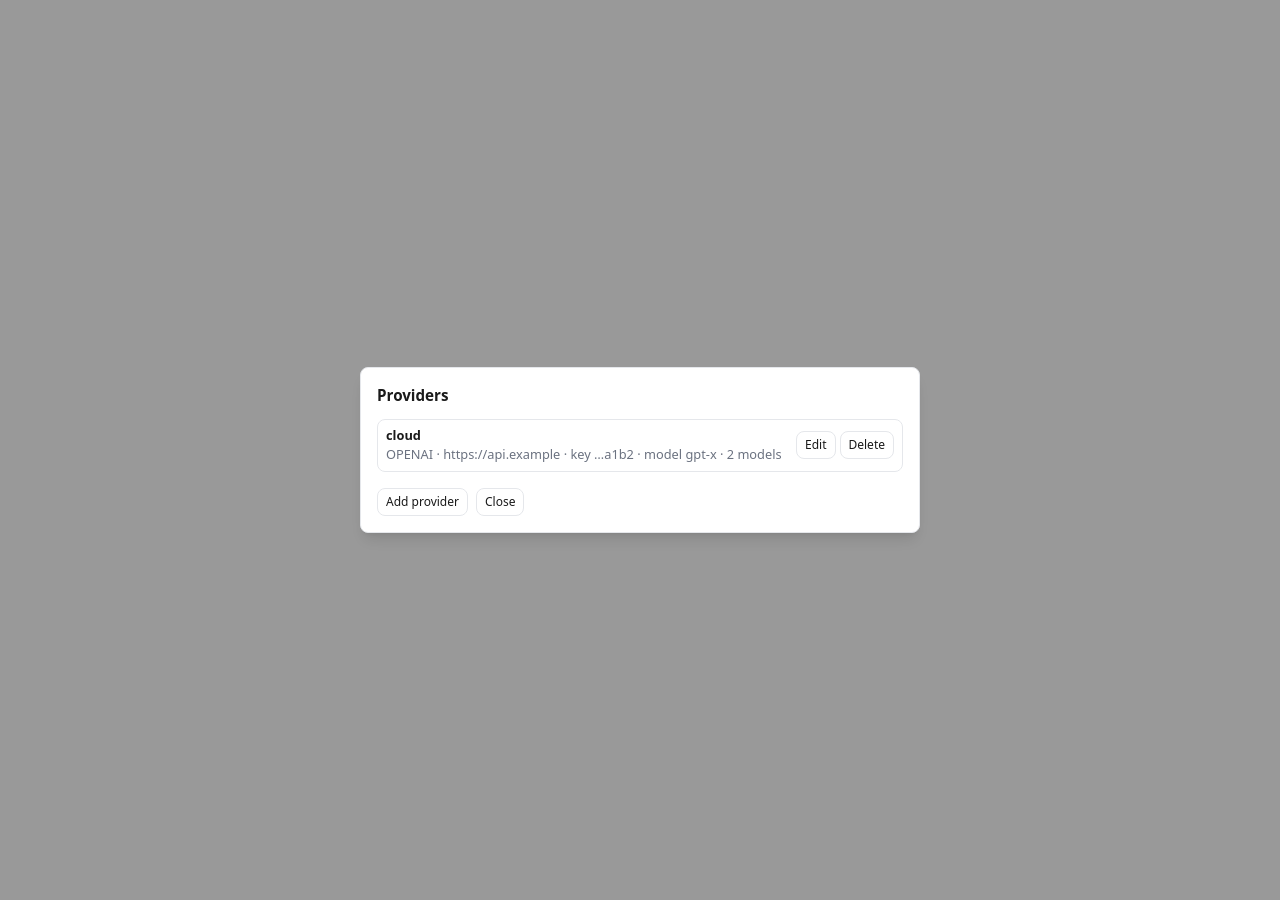
Test: ProvidersPanel › a re-fetch keeps the edited limits of existing models
Click the button "Edit".
click(816, 445)  # box [796,431,836,459]
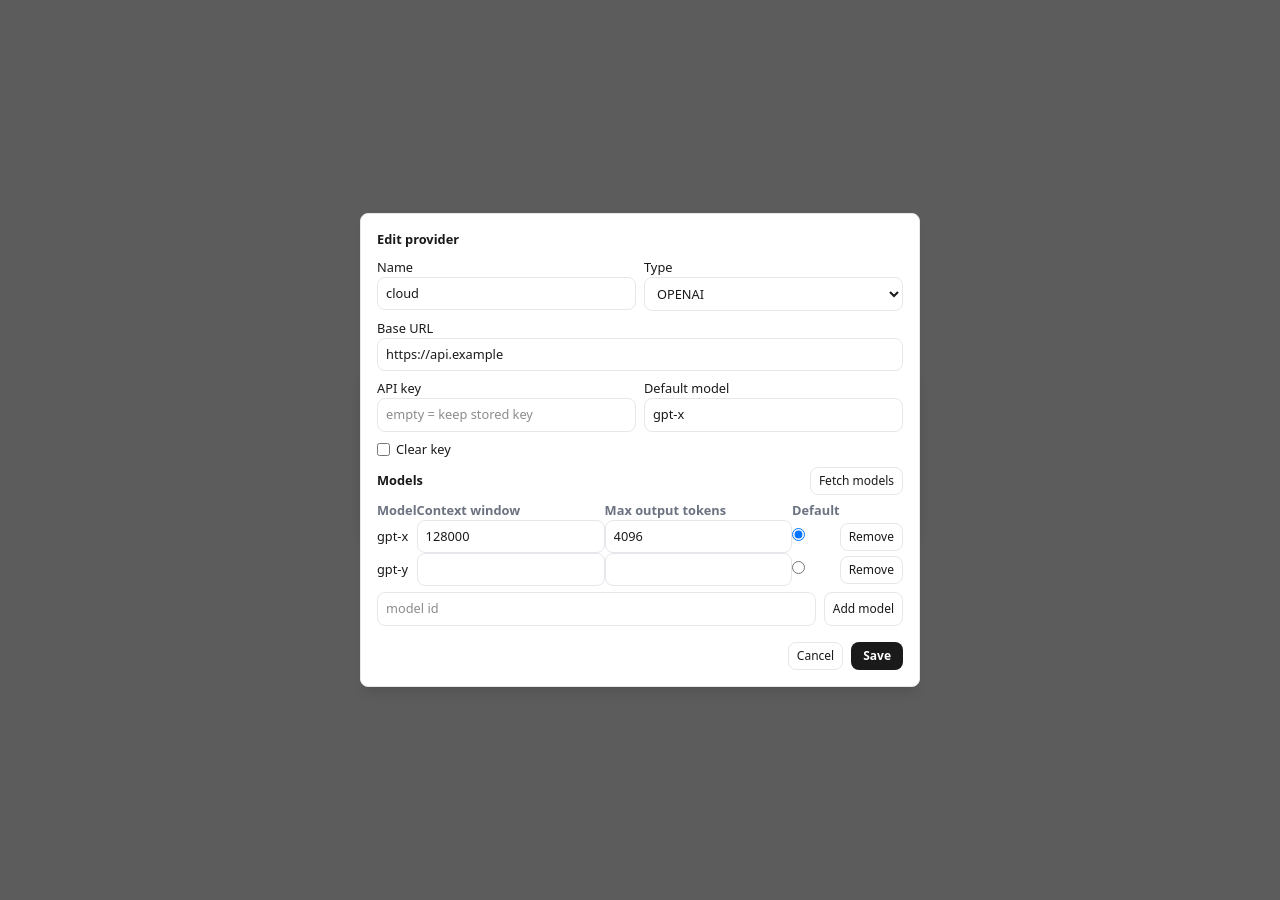
Type "999" into the number field named "Context window for gpt-y".
click(511, 570); type("999")  # box [417,553,605,586]
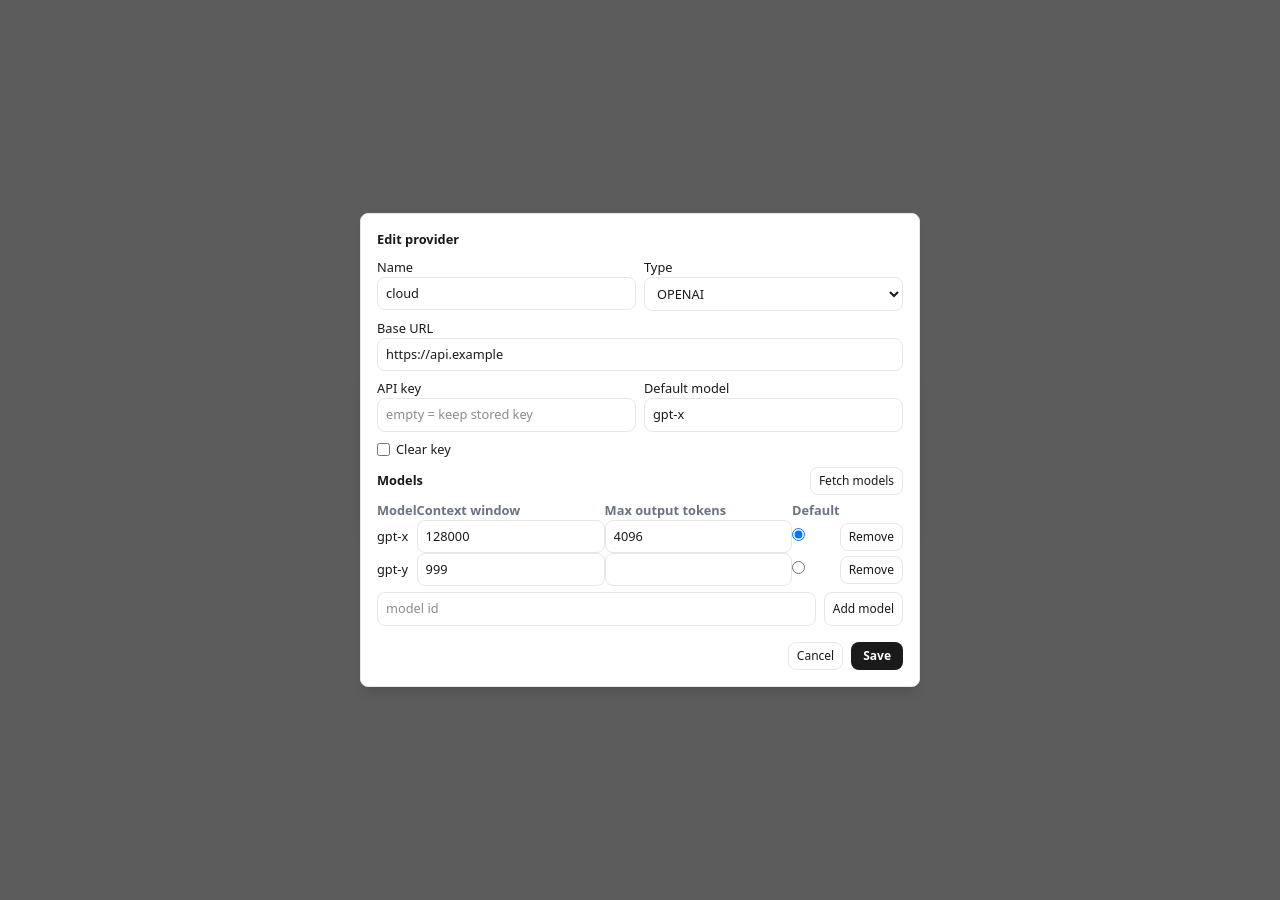
Click the button "Fetch models".
click(856, 481)  # box [810,467,903,495]
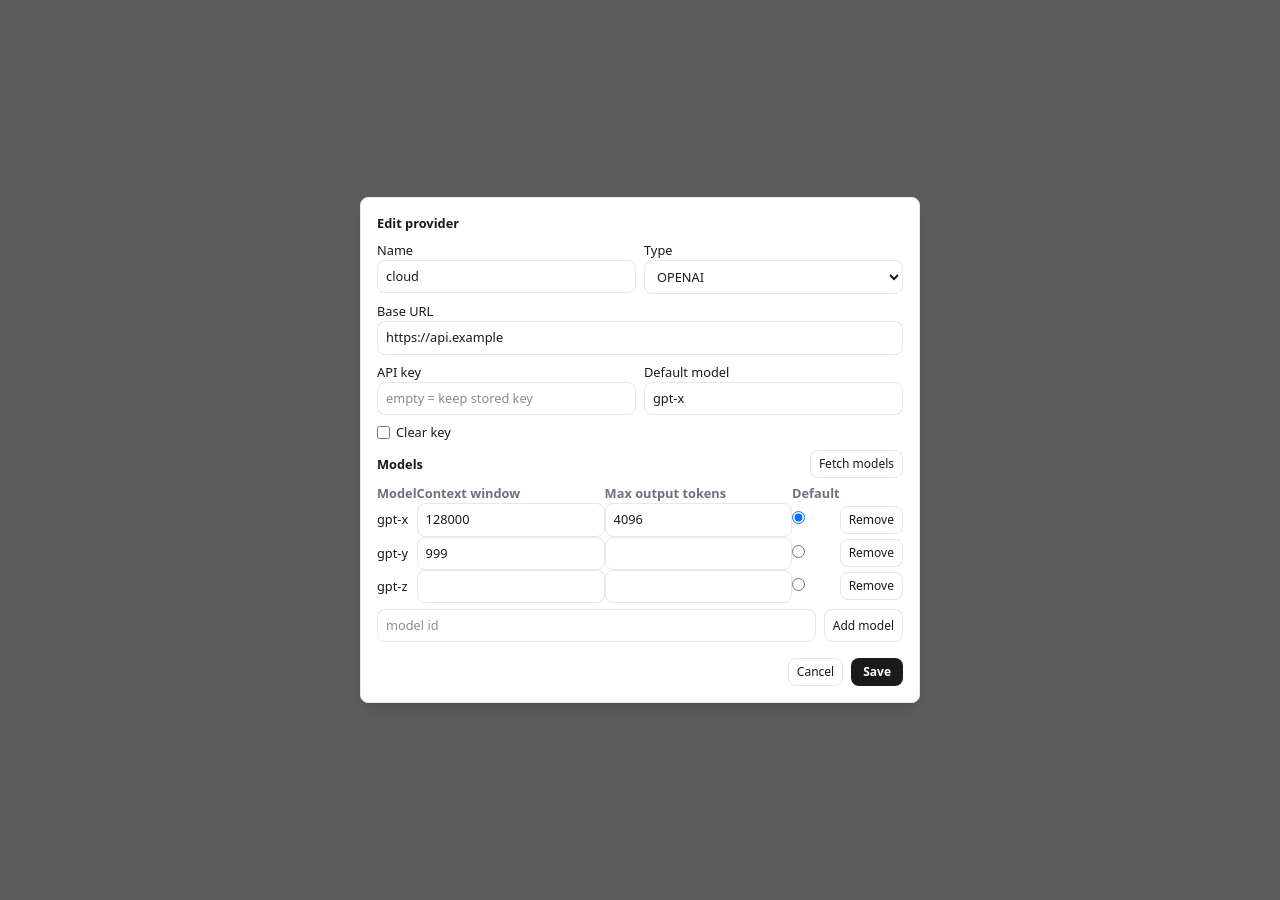
expect the number field named "Context window for gpt-x" holds "128000": met, box [417,503,605,537]
expect the number field named "Context window for gpt-z" is empty: met, box [417,570,605,603]
